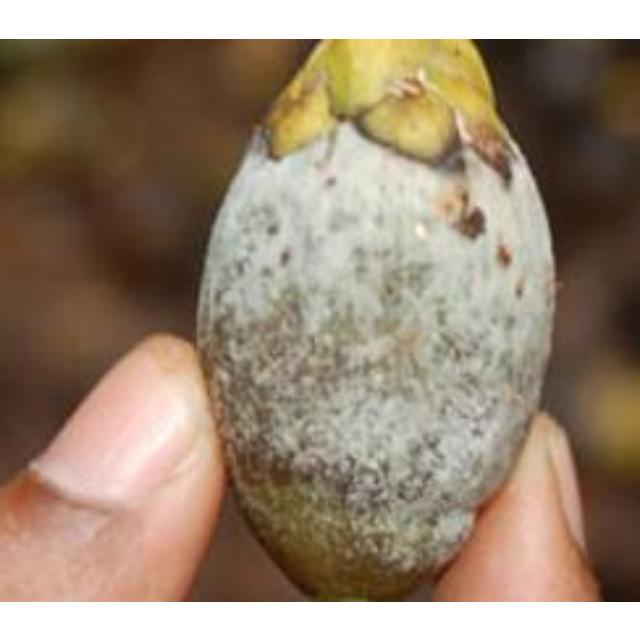damaged: (194, 38, 556, 599)
